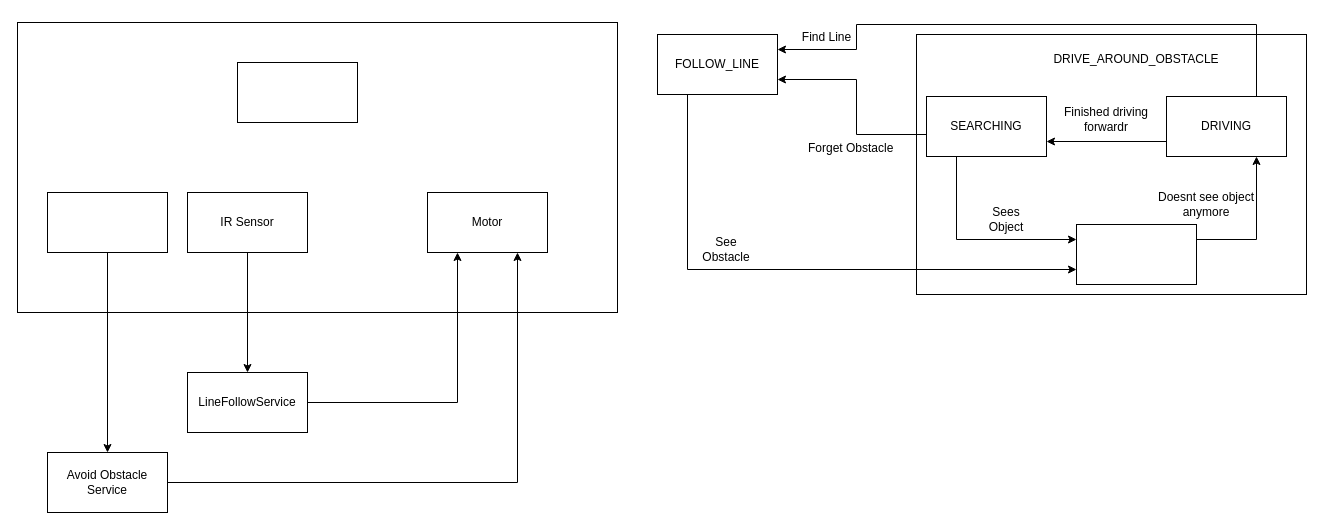
Image size: 1324x530. Some labels were removed from this diagram. Each missing label, with the box of its shape:
AutoPicoGo: (236, 62, 358, 122)
AVOIDING: (1076, 224, 1196, 284)
US Sensor: (46, 192, 168, 252)
